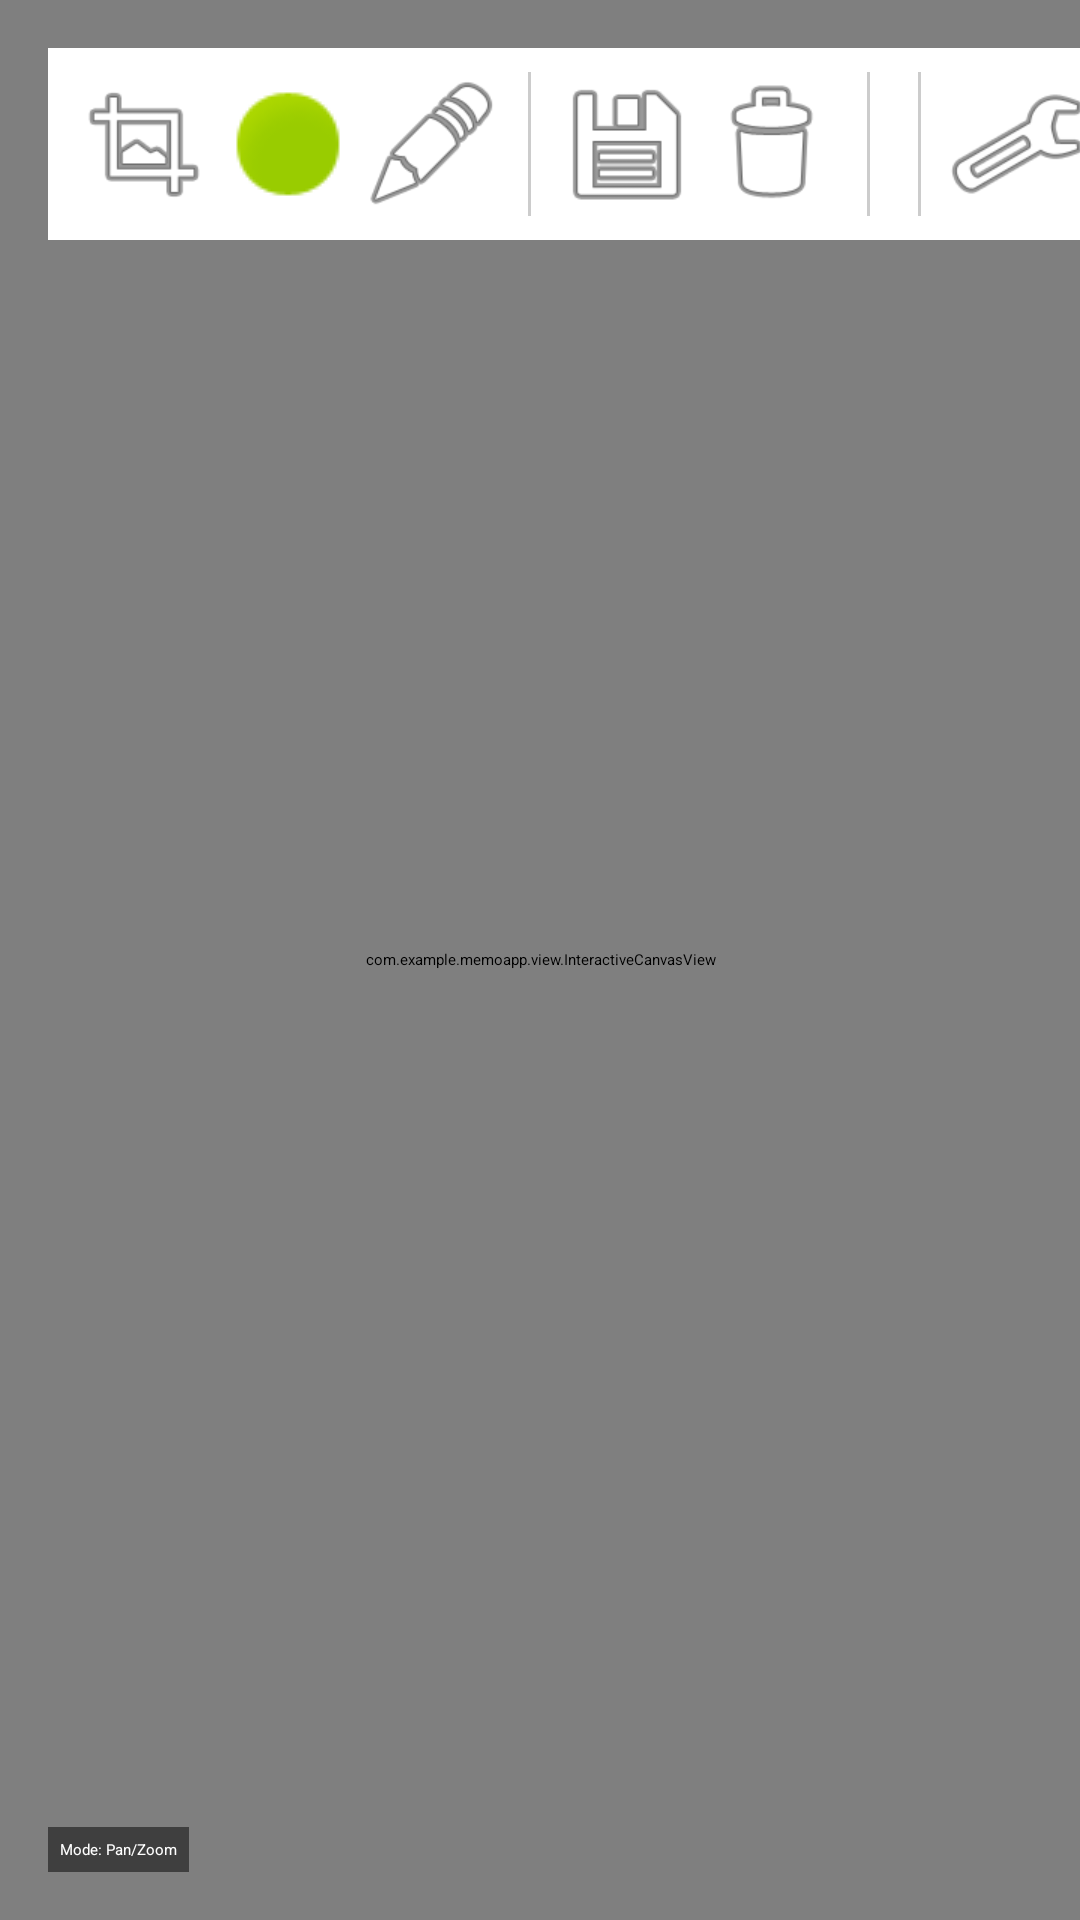

Named icons in this screenshot (1080×1920) and their bounding boxes, detection(x1, y1, x2, y2):
Clear Canvas: detection(731, 85, 813, 198)
Save Canvas: detection(573, 90, 681, 200)
